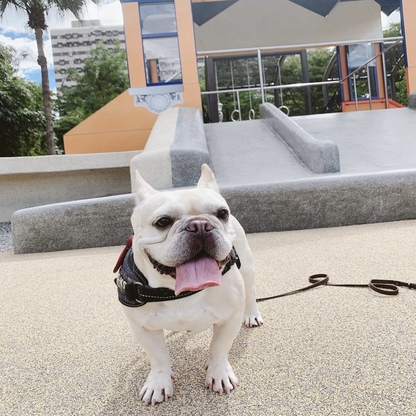bulldog: (113, 159, 264, 405)
